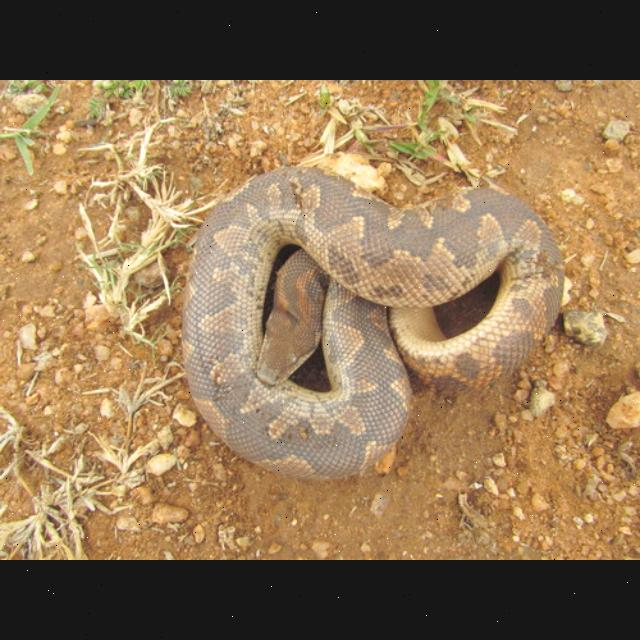snake: (180, 168, 572, 478)
